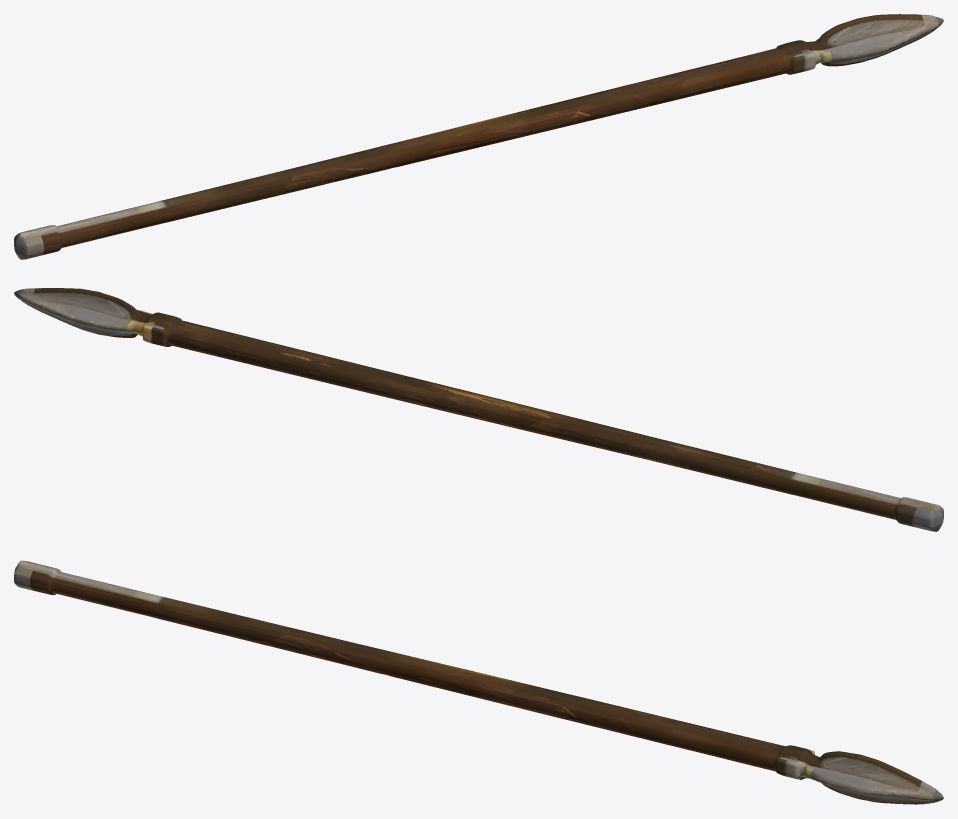
Rendered from tombak-tripo.glb.
3 views of the same model, one above another, from view 1: azimuth 30°, elevation 25°; view 2: azimuth 150°, elevation 25°; view 3: azimuth 330°, elevation 25° (orthographic).
Visible parts, largest first — view 1: tripo_node_d5064ff8-ada5-4e14-af54-44c7125d9bd5; view 2: tripo_node_d5064ff8-ada5-4e14-af54-44c7125d9bd5; view 3: tripo_node_d5064ff8-ada5-4e14-af54-44c7125d9bd5.
Boxes of the visible parts, bbox=[...] form: tripo_node_d5064ff8-ada5-4e14-af54-44c7125d9bd5: bbox=[14, 14, 943, 259]; tripo_node_d5064ff8-ada5-4e14-af54-44c7125d9bd5: bbox=[14, 288, 943, 531]; tripo_node_d5064ff8-ada5-4e14-af54-44c7125d9bd5: bbox=[14, 560, 943, 804].
Bounding box in the file's own units: 1 × 0.0442 × 0.0514.
Materials: 1 (1 with a texture image).
